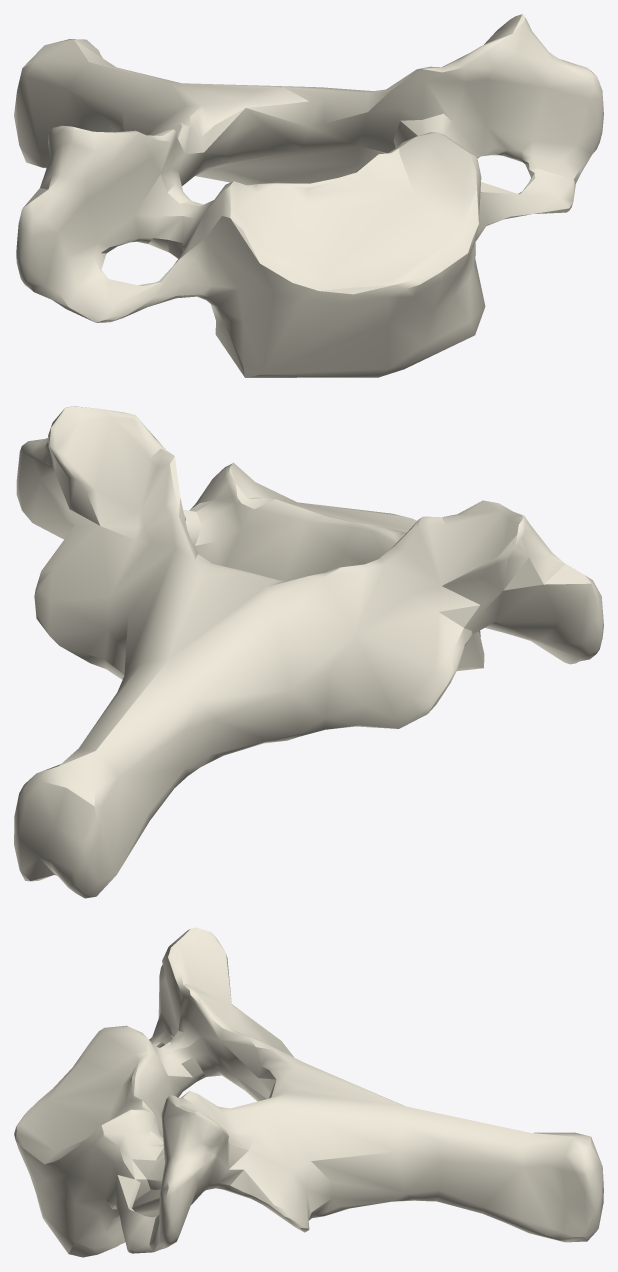
The model's file is fma12525_fj3172.glb.
3 renders of one model, top to bottom at view 1: azimuth 30°, elevation 25°; view 2: azimuth 150°, elevation 25°; view 3: azimuth 270°, elevation 25°, orthographic. The views are drawn at different scales.
Parts seen in each view (by area): view 1: FMA12525_FJ3172; view 2: FMA12525_FJ3172; view 3: FMA12525_FJ3172.
Part boxes in pixels (x1,y1,x2,y2): FMA12525_FJ3172: (14,14,603,377); FMA12525_FJ3172: (14,406,603,898); FMA12525_FJ3172: (14,927,603,1257).
Size of the model in its own units: 0.0652 by 0.0271 by 0.0688.
